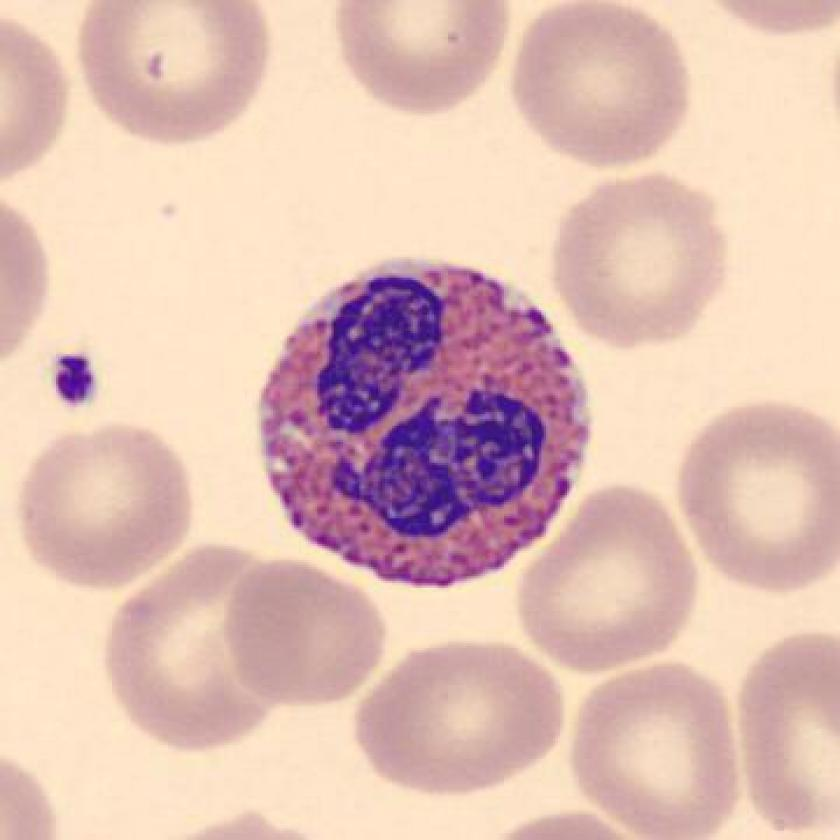eosinophil: (244, 240, 608, 601)
